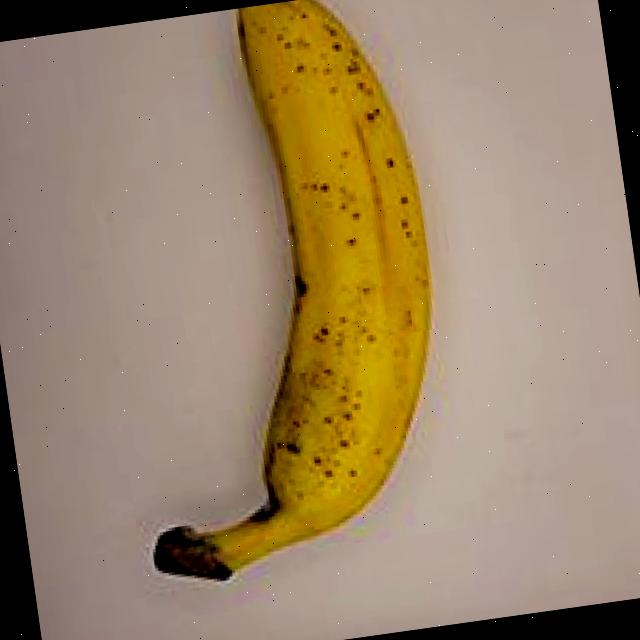Overripe: (45, 0, 506, 622)
